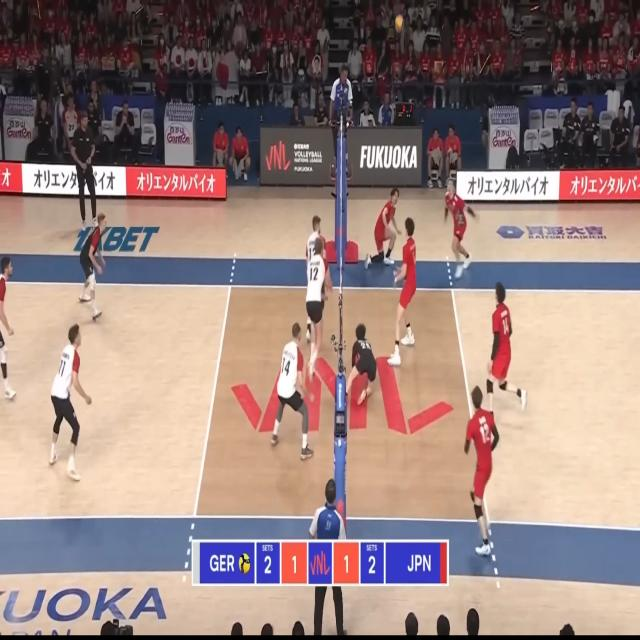ball: (396, 14, 404, 32)
